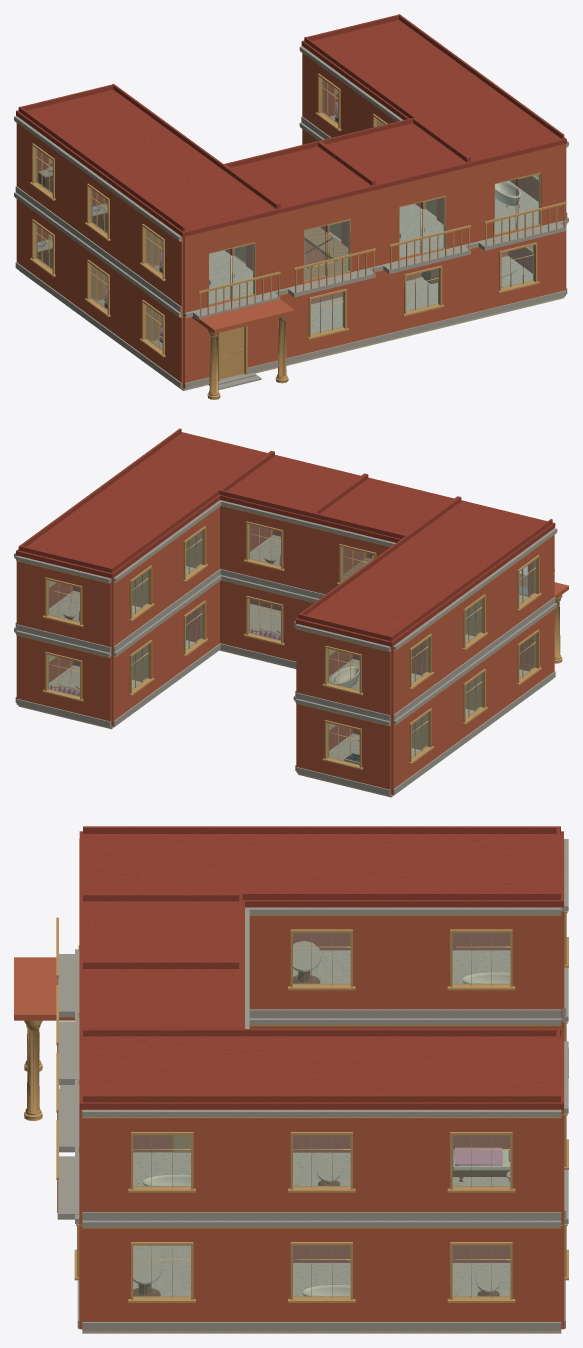
File: res_riviera_mansion-208ddb49f52e.glb
3 views of the same model, one above another, from view 1: azimuth 30°, elevation 25°; view 2: azimuth 150°, elevation 25°; view 3: azimuth 270°, elevation 25° (orthographic). The views are drawn at different scales.
Visible parts, largest first — view 1: surface_terracotta, surface_brick, surface_brass, surface_Optical_smoke, surface_stone, surface_terrazzo, surface_oak, surface_walnut, surface_ivory; view 2: surface_terracotta, surface_brick, surface_brass, surface_stone, surface_Optical_smoke, surface_terrazzo, surface_ivory; view 3: surface_terracotta, surface_brick, surface_stone, surface_Optical_smoke, surface_brass, surface_terrazzo, surface_ivory, surface_walnut, surface_rose.
Boxes of the visible parts, x1,y1,x2,y2 form: surface_terracotta: (16,46,566,388); surface_brick: (16,14,566,236); surface_brass: (15,51,568,399); surface_Optical_smoke: (36,79,539,350); surface_stone: (14,46,568,390); surface_terrazzo: (19,115,564,390); surface_oak: (234,227,348,280); surface_walnut: (37,116,502,342); surface_ivory: (106,114,520,303); surface_terracotta: (16,500,568,794); surface_brick: (16,428,555,646); surface_brass: (14,505,562,769); surface_stone: (14,500,557,795); surface_Optical_smoke: (48,524,535,764); surface_terrazzo: (18,535,552,797); surface_ivory: (331,665,359,687); surface_terracotta: (14,839,564,1329); surface_brick: (79,826,563,1109); surface_stone: (57,839,568,1330); surface_Optical_smoke: (134,933,509,1296); surface_brass: (24,911,568,1302); surface_terrazzo: (82,941,561,1333); surface_ivory: (142,972,510,1296); surface_walnut: (133,971,510,1296); surface_rose: (454,1147,502,1165).
Bounding box in the file's own units: 16.39 × 6.56 × 13.91.
15 materials, 6 textured.
